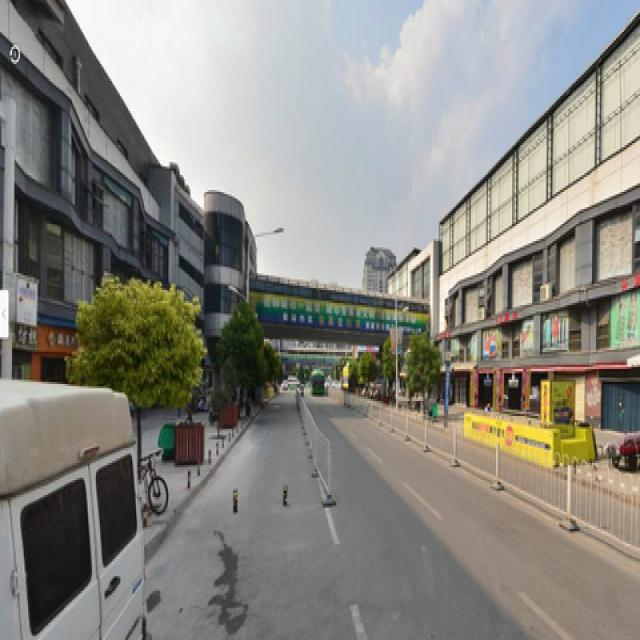cinn: (96, 280, 187, 488)
